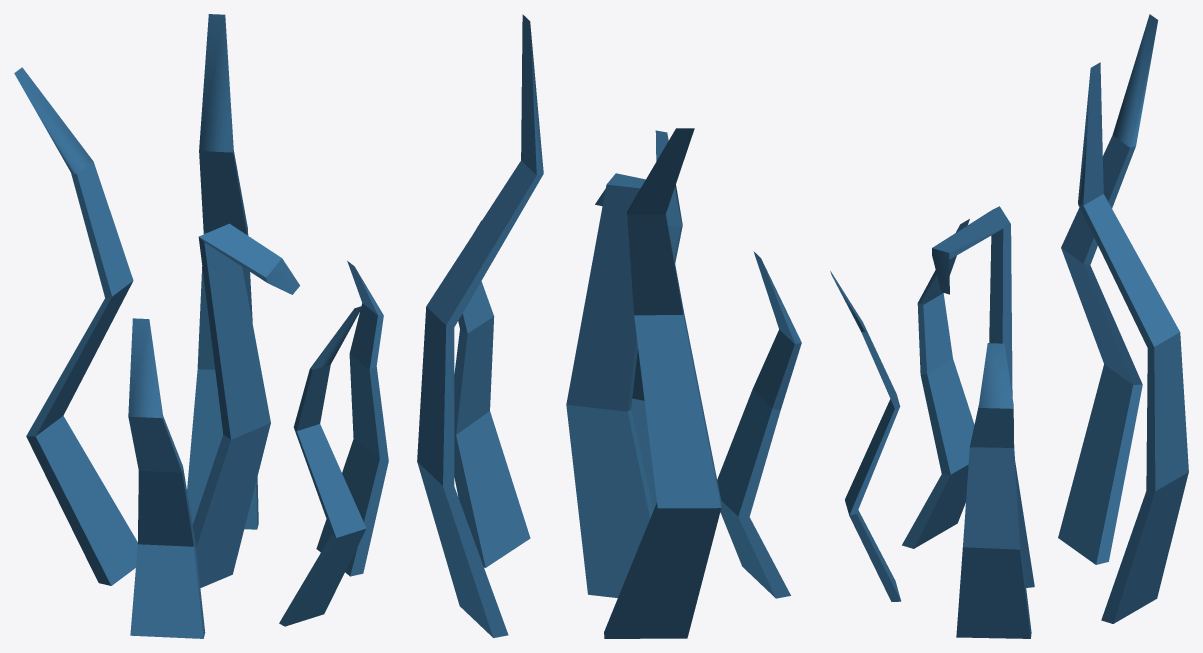
The model's file is Grass_3_Blue.fbx.
3 renders of one model, left to right at view 1: azimuth 30°, elevation 25°; view 2: azimuth 150°, elevation 25°; view 3: azimuth 270°, elevation 25°, orthographic. The views are drawn at different scales.
Parts seen in each view (by area): view 1: Grass_3_Blue; view 2: Grass_3_Blue; view 3: Grass_3_Blue.
Part boxes in pixels (left/top/right/bottom): Grass_3_Blue: left=14, top=14, right=388, bottom=638; Grass_3_Blue: left=417, top=14, right=801, bottom=638; Grass_3_Blue: left=830, top=14, right=1188, bottom=638.
Size of the model in its own units: 27.46 by 47.37 by 28.85.
